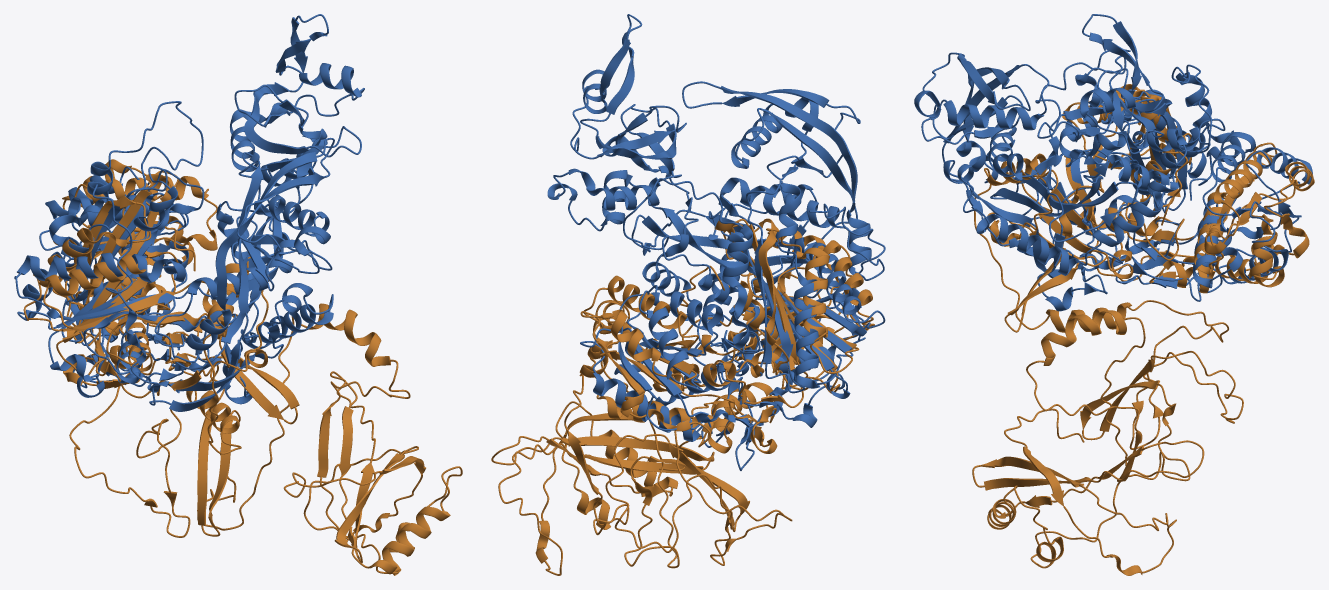
File: AF-A0A5C0DWF7-F1-AF-Q9HCK5-F1.glb
3 views of the same model, side by side, from view 1: azimuth 30°, elevation 25°; view 2: azimuth 150°, elevation 25°; view 3: azimuth 270°, elevation 25° (orthographic). The views are drawn at different scales.
Size of the model in its own units: 93.72 by 128 by 87.45.
